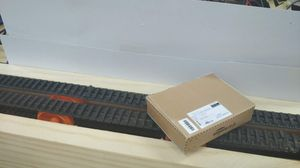box2: (144, 71, 254, 154)
